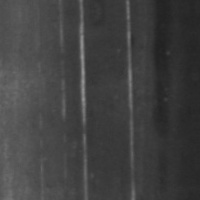scratches: (117, 10, 143, 199), (71, 12, 95, 199)
